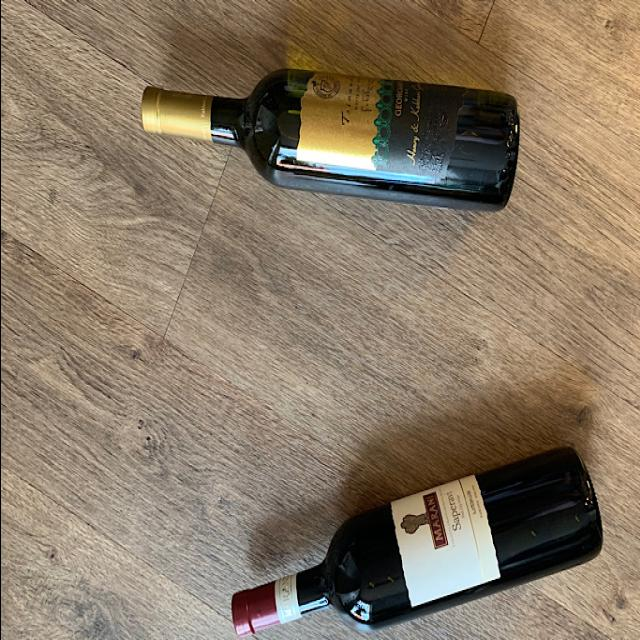Glass Bottle: (230, 442, 602, 640), (139, 66, 523, 224)
